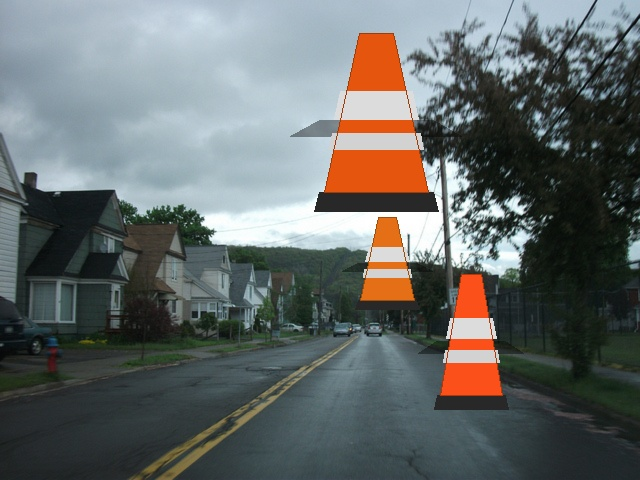traffic-cone: (314, 33, 438, 211), (434, 274, 508, 409), (355, 217, 419, 309)
